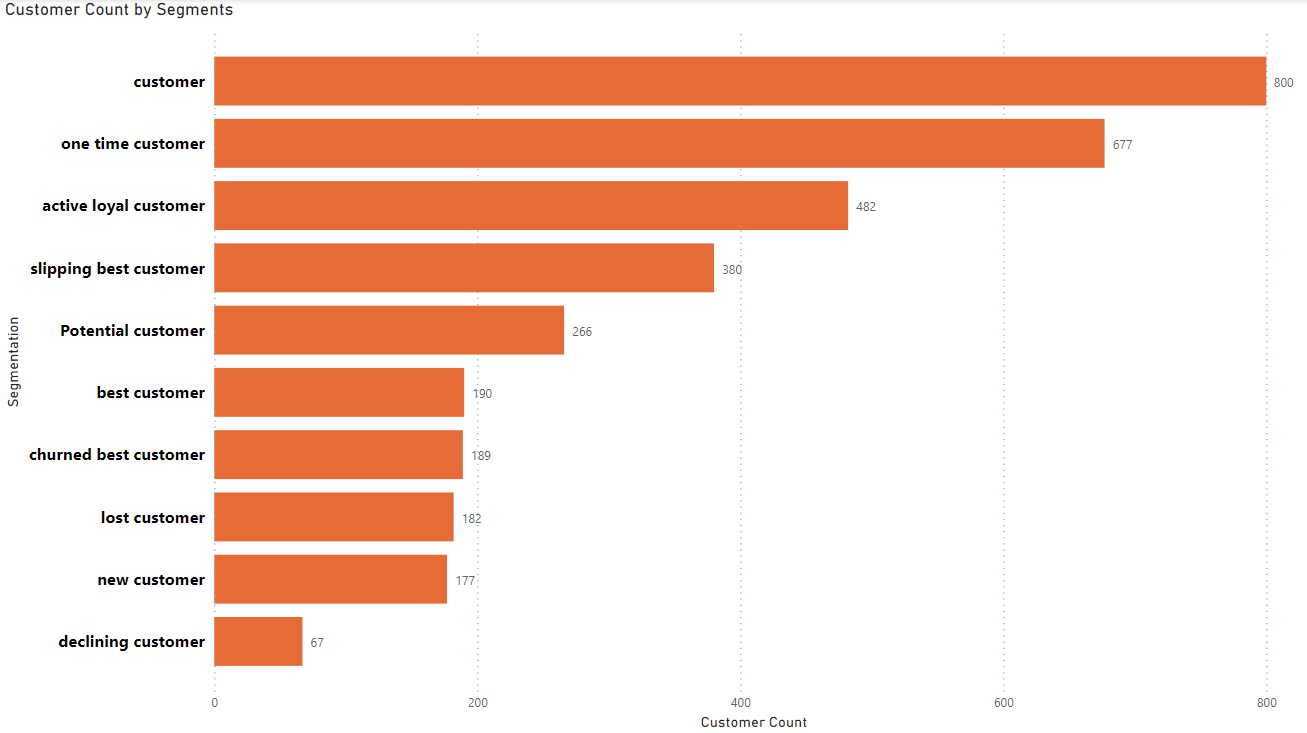

This screenshot's page, from the dashboard's own definition file:
{"tool":"powerbi","page":{"name":"Customer Count by Segments","canvas":[1280,720],"ordinal":0},"visuals":[{"type":"clusteredBarChart","title":"Customer Count by Segments","fields":{"Category":["Customer_Segmentation (2).rfm_segment"],"Y":["Count(customer_demographic.customer_id)"]},"box":[0,0,1280.3,720.4],"z":0}]}

Visuals, with their boxes in screenshot pixels (x1, y1, x2, y2), scaled from the page's 1280x720 canvas onto the 1307x733 screenshot:
"Customer Count by Segments" clusteredBarChart: 0,0,1306,732
